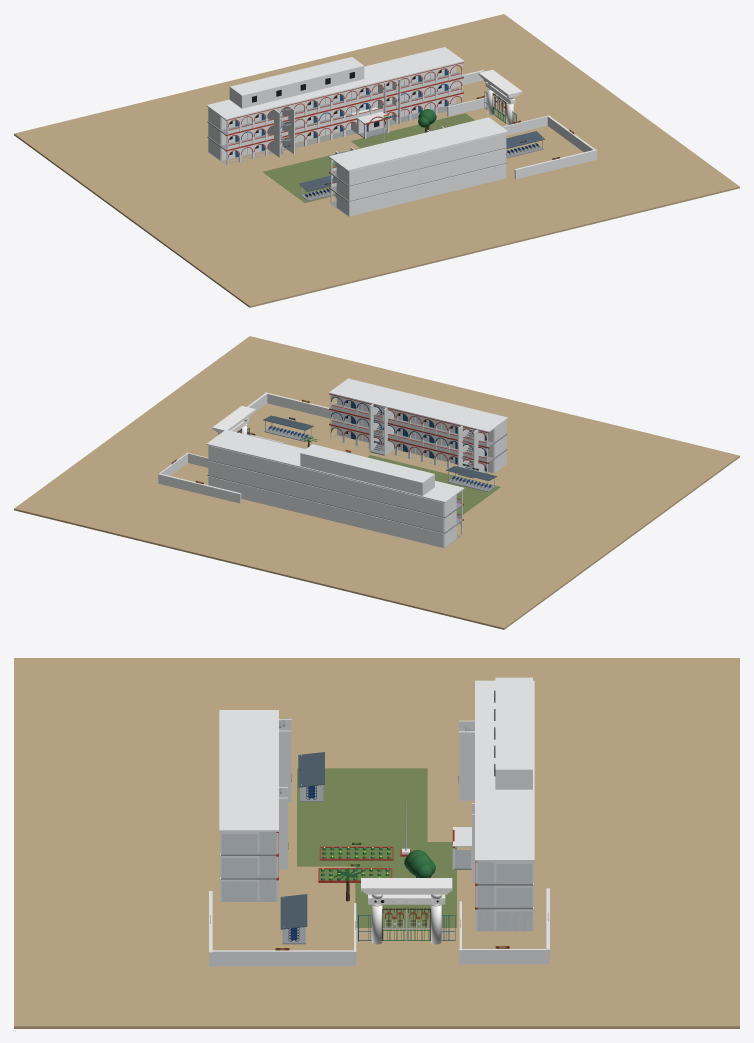
File: school.glb
The picture shows the model from 3 angles, top to bottom: view 1: azimuth 30°, elevation 25°; view 2: azimuth 150°, elevation 25°; view 3: azimuth 270°, elevation 25°; orthographic projection. The views are drawn at different scales.
Visible parts, largest first — view 1: School_Courtyard_Ground, Roof_Main, Roof_South, Main_4thFloor_Block, Courtyard_Grass_Patch1, BOUNDARY_WALL_Wall-Copy (×2), CYCLE_STAND_Cycles (×2), Courtyard_Grass_Patch2, STAIRCASE_Stair-1-Copy, CLASSROOM_Room 103, Slab_Main_F0, Cornice_Tier_3 (+1 smaller); view 2: School_Courtyard_Ground, Roof_South, Main_4thFloor_Block, Roof_Main, CYCLE_STAND_Cycles (×2), Courtyard_Grass_Patch1, STAIRCASE_Stair-S1, BOUNDARY_WALL_Wall-Copy-Copy, STAIRCASE_Stair-1-Copy-Copy, BOUNDARY_WALL_Wall-Copy, Cornice_Tier_3; view 3: School_Courtyard_Ground, Courtyard_Grass_Patch1, Roof_South, Roof_Main, Main_4thFloor_Block, Courtyard_Grass_Patch2, CYCLE_STAND_Cycles (×2), BOUNDARY_WALL_Wall, BOUNDARY_WALL_Wall-Copy-Copy, Slab_Main_F1, STAIRCASE_Stair-1-Copy, Cornice_Tier_3 (+10 smaller).
Boxes of the visible parts, <box> form: School_Courtyard_Ground: <box>14,14,739,307</box>; Roof_Main: <box>206,47,464,119</box>; Roof_South: <box>328,117,508,171</box>; Main_4thFloor_Block: <box>229,57,364,108</box>; Courtyard_Grass_Patch1: <box>263,140,393,202</box>; BOUNDARY_WALL_Wall-Copy (×2): <box>447,94,597,179</box>; CYCLE_STAND_Cycles (×2): <box>299,131,544,200</box>; Courtyard_Grass_Patch2: <box>351,113,474,147</box>; STAIRCASE_Stair-1-Copy: <box>268,106,294,157</box>; CLASSROOM_Room 103: <box>351,107,389,138</box>; Slab_Main_F0: <box>208,102,458,163</box>; Cornice_Tier_3: <box>478,69,522,96</box>; School_Courtyard_Ground: <box>14,336,739,629</box>; Roof_South: <box>328,378,508,432</box>; Main_4thFloor_Block: <box>300,444,434,495</box>; Roof_Main: <box>206,429,464,502</box>; CYCLE_STAND_Cycles (×2): <box>263,415,497,491</box>; Courtyard_Grass_Patch1: <box>367,455,500,514</box>; STAIRCASE_Stair-S1: <box>457,425,484,478</box>; BOUNDARY_WALL_Wall-Copy-Copy: <box>158,473,241,503</box>; STAIRCASE_Stair-1-Copy-Copy: <box>369,404,393,455</box>; BOUNDARY_WALL_Wall-Copy: <box>264,392,336,419</box>; Cornice_Tier_3: <box>212,406,255,431</box>; School_Courtyard_Ground: <box>14,658,739,1028</box>; Courtyard_Grass_Patch1: <box>297,768,427,866</box>; Roof_South: <box>219,710,278,831</box>; Roof_Main: <box>475,680,534,861</box>; Main_4thFloor_Block: <box>495,677,532,789</box>; Courtyard_Grass_Patch2: <box>355,842,456,927</box>; CYCLE_STAND_Cycles (×2): <box>280,752,324,944</box>; BOUNDARY_WALL_Wall: <box>210,950,353,966</box>; BOUNDARY_WALL_Wall-Copy-Copy: <box>459,949,545,964</box>; Slab_Main_F1: <box>476,885,532,909</box>; STAIRCASE_Stair-1-Copy: <box>459,720,474,800</box>; Cornice_Tier_3: <box>361,878,452,891</box>.
Size of the model in its own units: 120 by 14.42 by 100.
51 materials, 17 textured.
